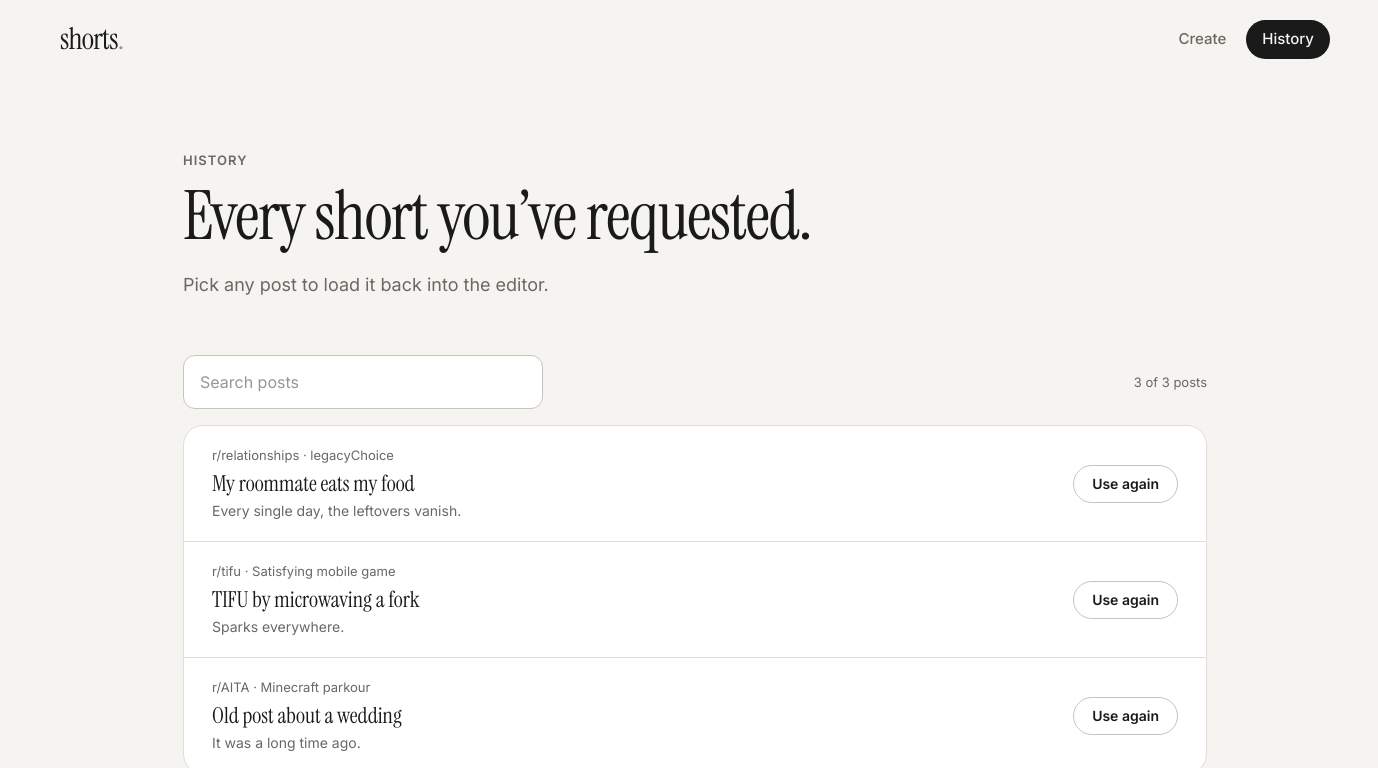
Scenario: use again › opens the create page prefilled with that post
This screenshot has width=1378, height=768.
Click the button named "Use \"TIFU by microwaving a fork\" again" at point(1126, 600), box 1073,581 -> 1178,619
(page scrolled)
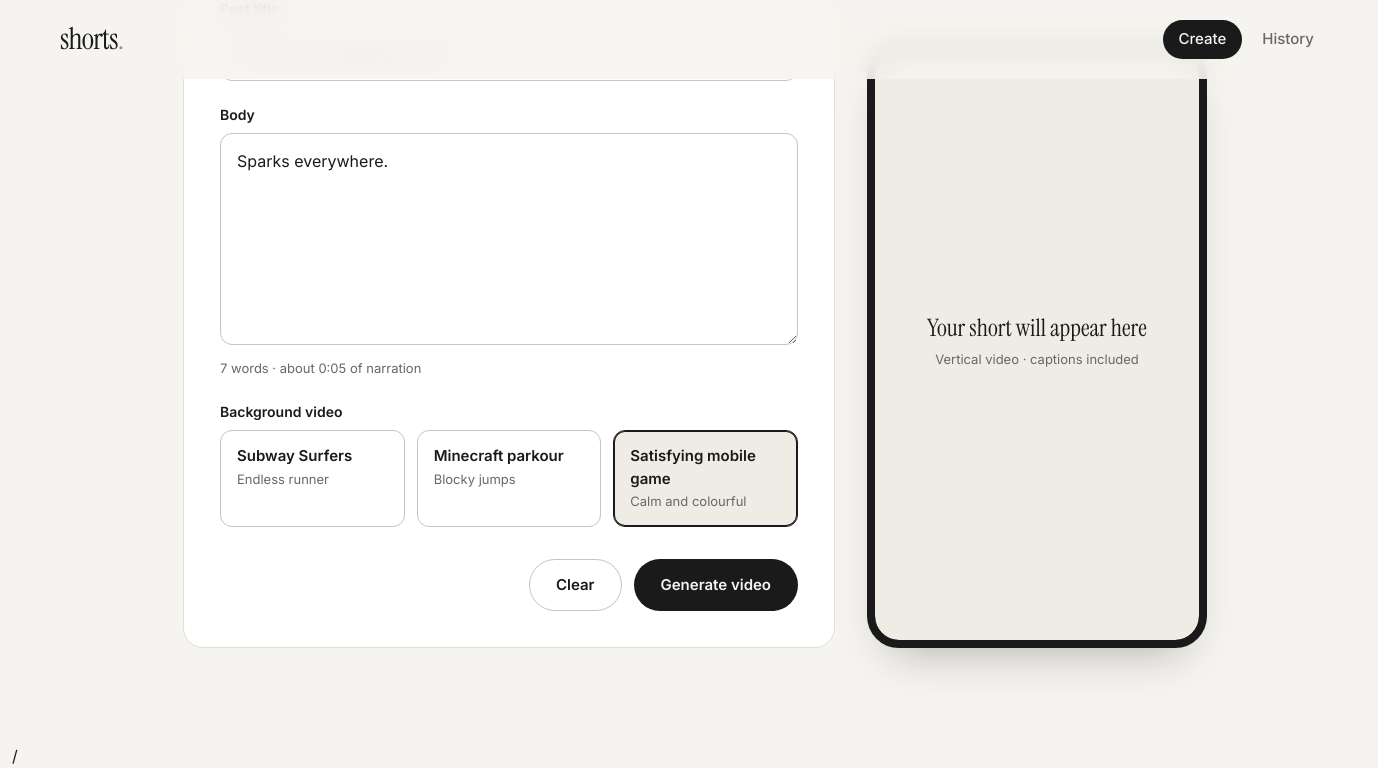
Expected: the text with test id "location" reads "/", 12,746 -> 18,766
Expected: the text box labelled "Body" holds "Sparks everywhere.", 220,133 -> 798,345
Expected: the radio button labelled "Satisfying mobile game Calm and colourful" is checked, 613,430 -> 798,527
